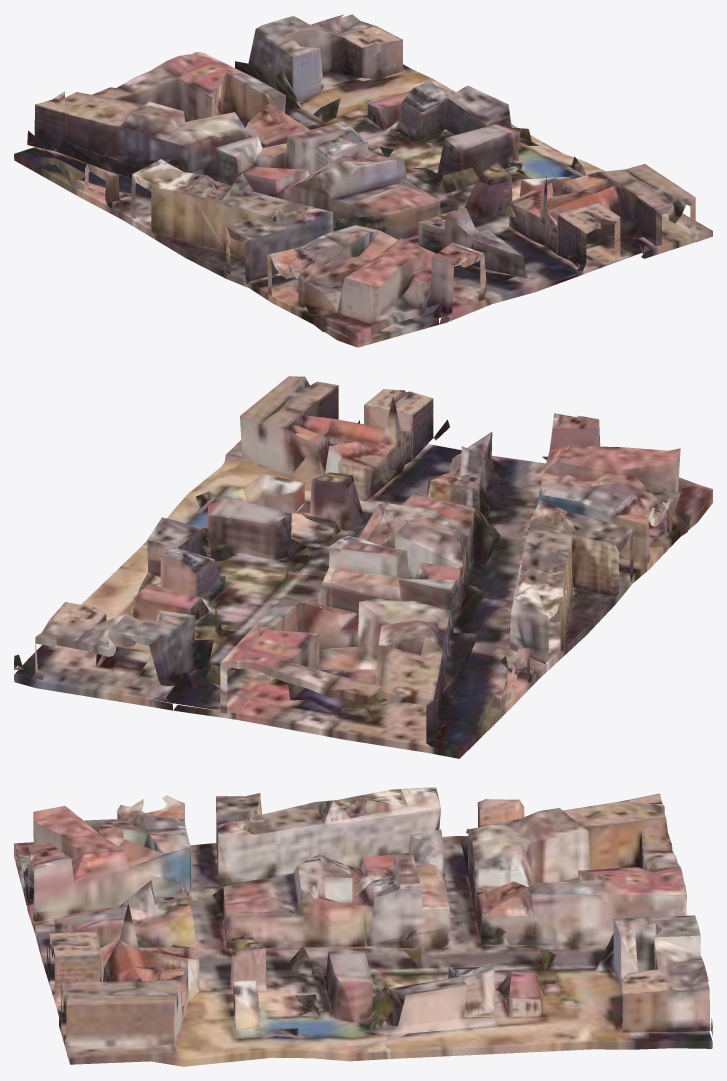
3 renders of one model, top to bottom at view 1: azimuth 30°, elevation 25°; view 2: azimuth 150°, elevation 25°; view 3: azimuth 270°, elevation 25°, orthographic. The views are drawn at different scales.
Parts seen in each view (by area): view 1: Mesh_0; view 2: Mesh_0; view 3: Mesh_0.
Boxes of the visible parts, x1=… form: Mesh_0: x1=14, y1=14, x2=712, y2=347; Mesh_0: x1=14, y1=376, x2=712, y2=758; Mesh_0: x1=14, y1=787, x2=712, y2=1066.
Bounding box in the file's own units: 266 × 53.45 × 330.
2 materials, 2 textured.
